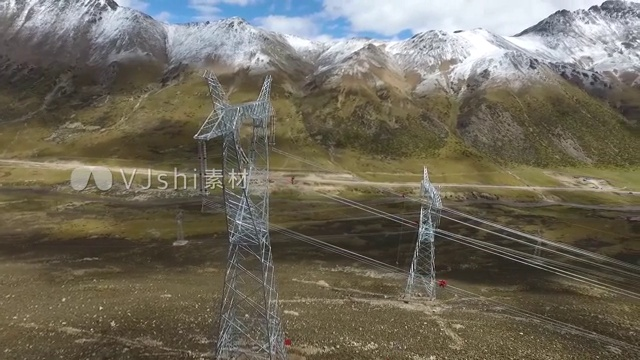tower_body: (187, 61, 288, 360), (403, 163, 447, 304)
tower_foot: (213, 284, 286, 360), (407, 261, 439, 301)
tower_head: (194, 67, 281, 245), (413, 167, 443, 241)
